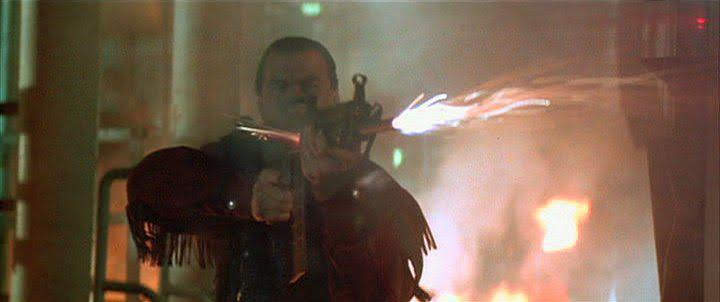gun: (223, 103, 408, 289)
